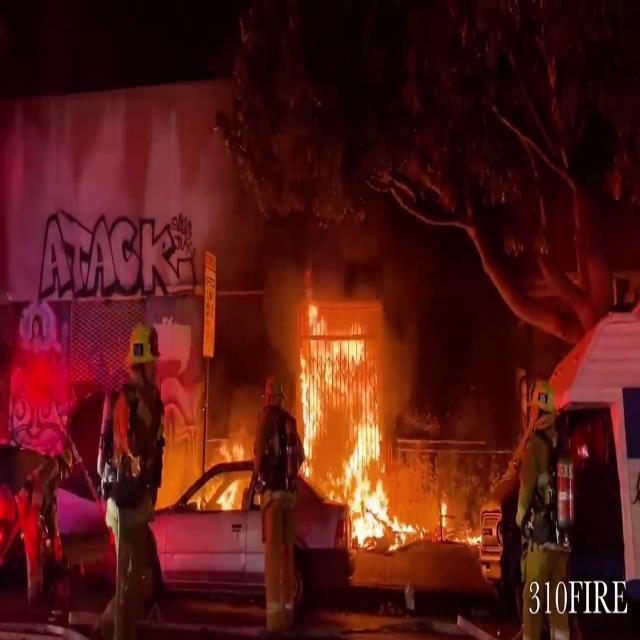Fire: (295, 305, 419, 550), (202, 438, 254, 510)
Smoke: (225, 169, 426, 322)
